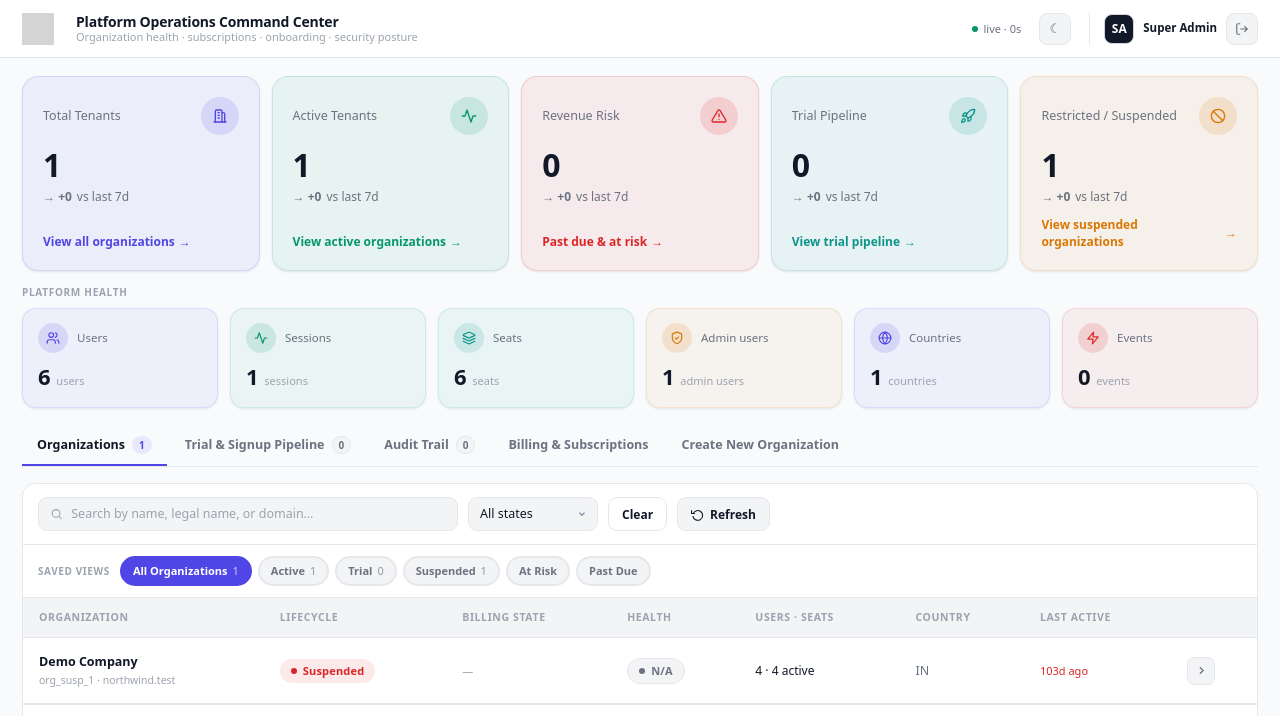
it: delete confirmation › asks for confirmation and states that it cannot be undone
What coordinates should you click on to do the following:
click the text "Demo Company"
I would click on:
 (88, 662)
Its box is [39,653,138,670].
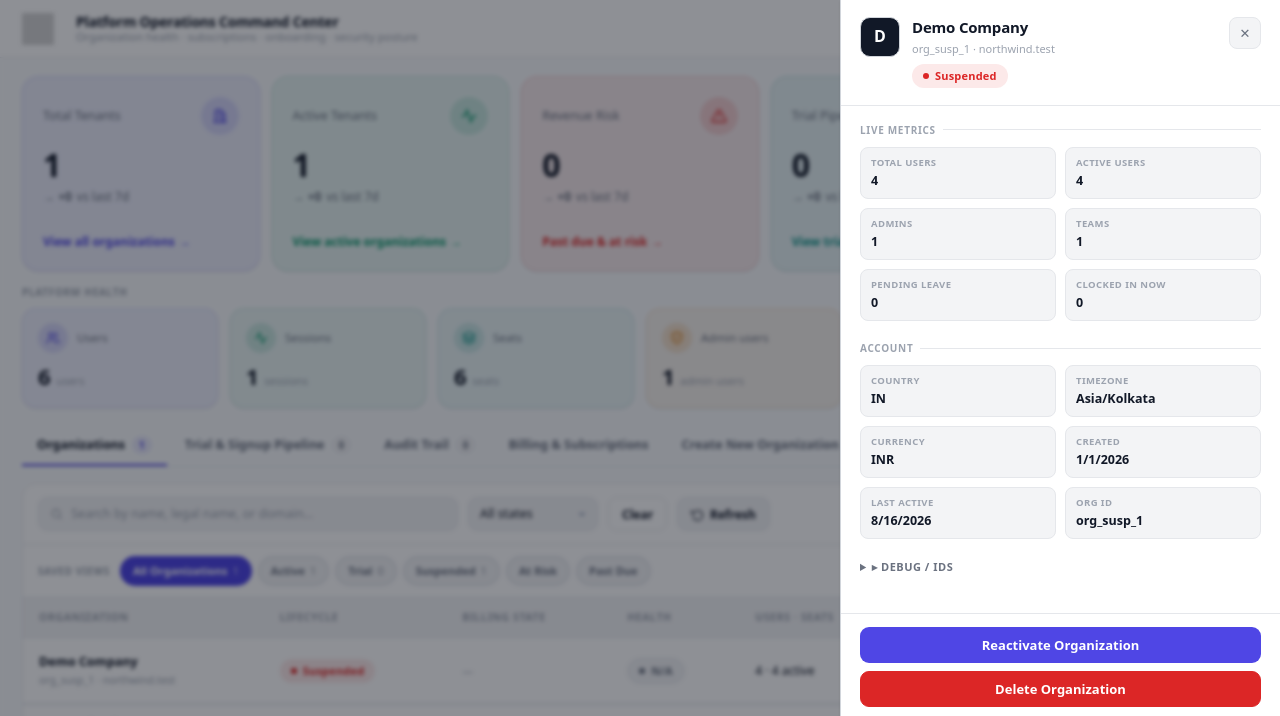
expect the button "Reactivate Organization" is shown: met, box [860,627,1261,663]
What coordinates should you click on to do the following:
click the button "Delete Organization"
I would click on:
 (1060, 689)
Its box is [860,671,1261,707].
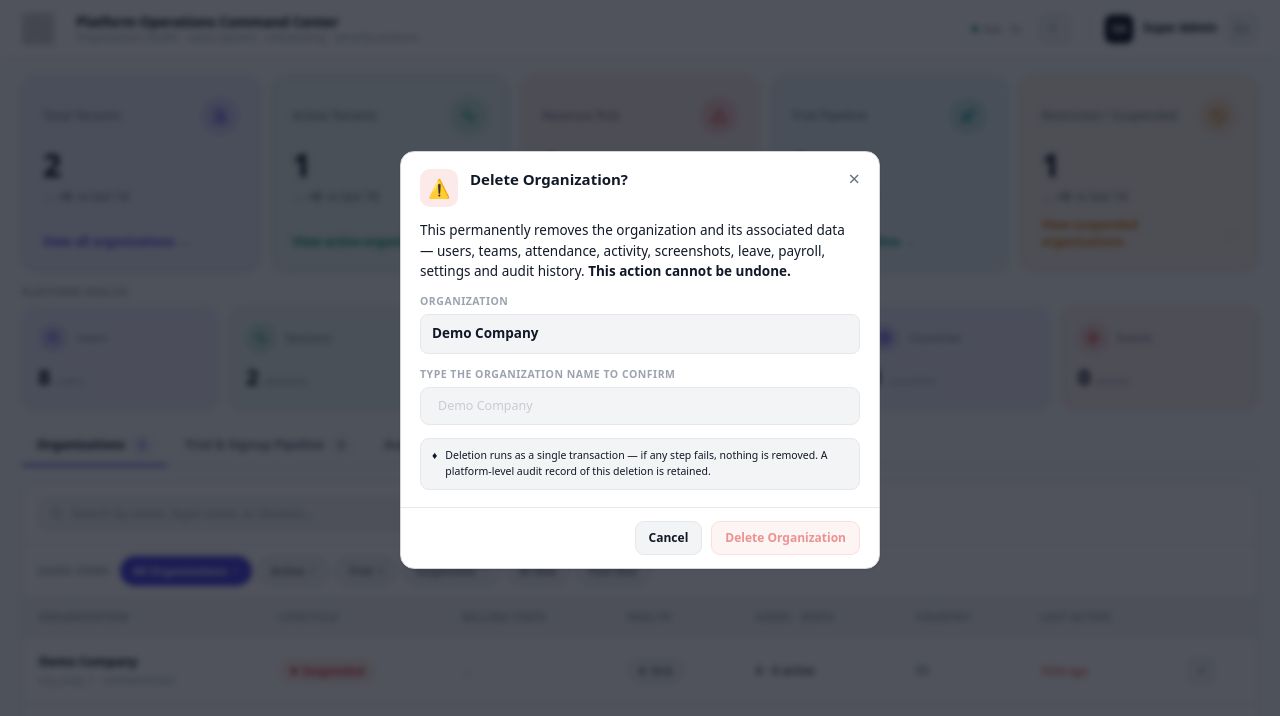
expect the heading "Delete Organization?" is shown: met, box [470,169,628,189]
expect the text "This action cannot be undone." is shown: met, box [588,262,791,280]
expect the field named "Type the organization name to confirm" is shown: met, box [420,387,860,425]
